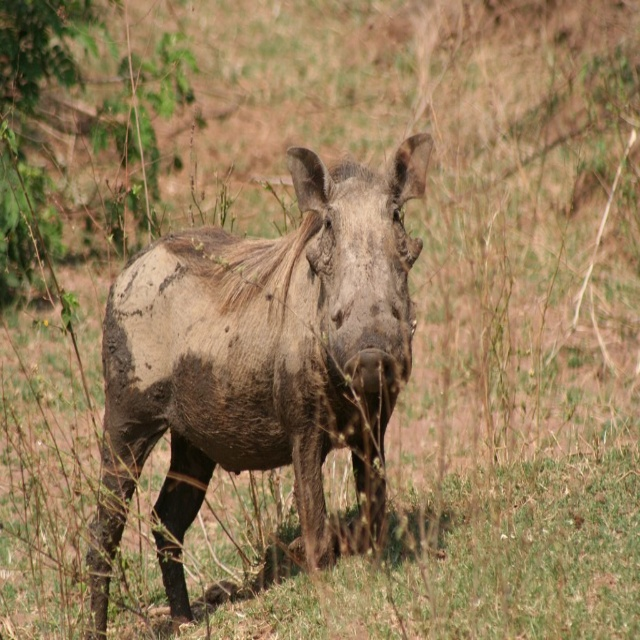Pig: (85, 132, 433, 640)
